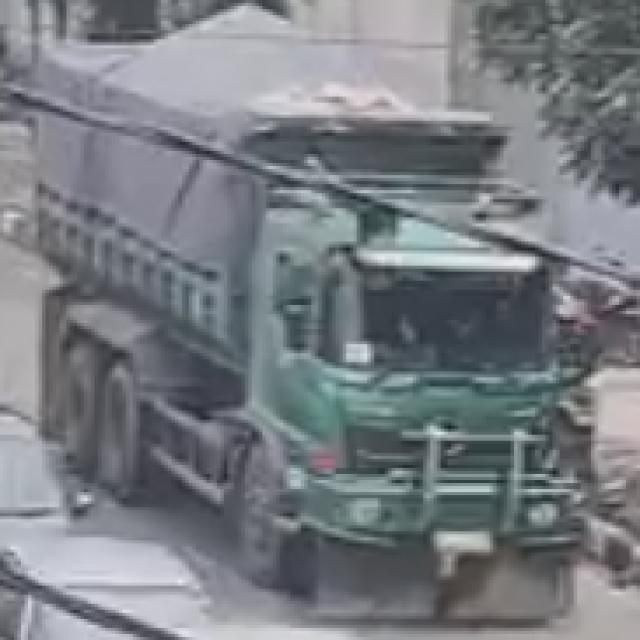Truck: (32, 31, 612, 621)
